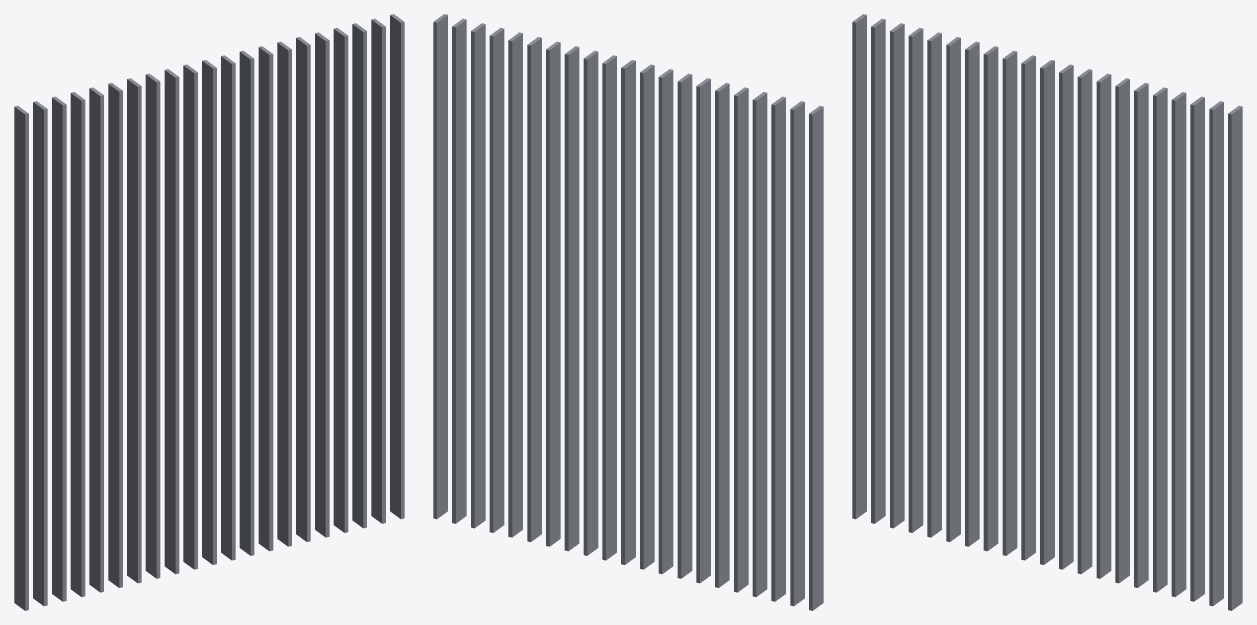
Rendered from SM_fence_08.glb.
3 renders of one model, left to right at view 1: azimuth 30°, elevation 25°; view 2: azimuth 150°, elevation 25°; view 3: azimuth 330°, elevation 25°, orthographic.
Visible parts, largest first — view 1: SM_fence_08; view 2: SM_fence_08; view 3: SM_fence_08.
Part boxes in pixels (x1=…): SM_fence_08: x1=14, y1=14, x2=404, y2=610; SM_fence_08: x1=433, y1=14, x2=823, y2=610; SM_fence_08: x1=852, y1=14, x2=1242, y2=610.
Bounding box in the file's own units: 2 × 2.5 × 0.1.
Materials: 1 (1 with a texture image).
